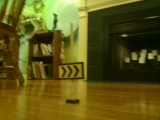right: (57, 64, 85, 79)
